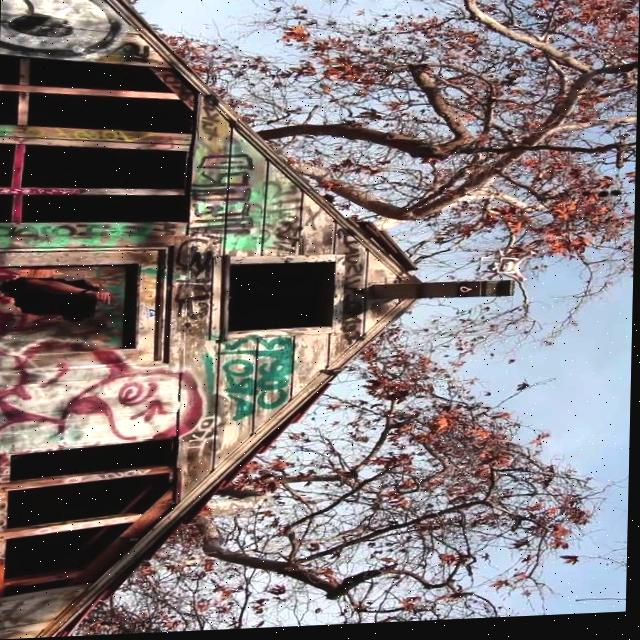drone: (487, 249, 539, 291)
